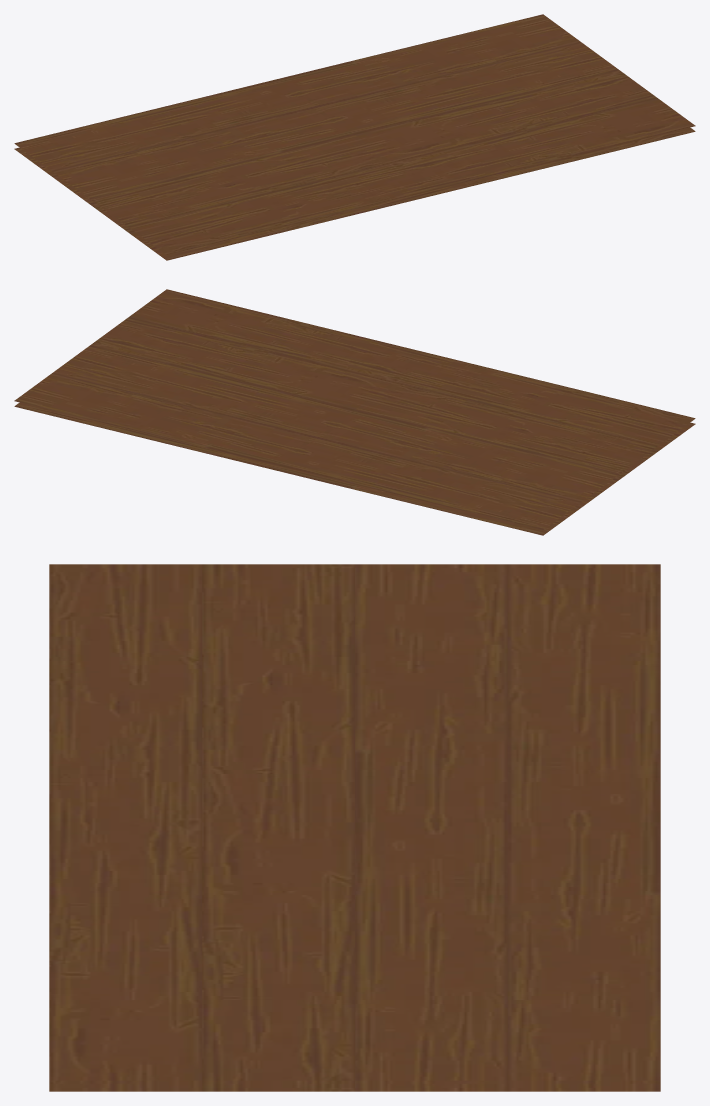
Rendered from floor_wooddark_half3.glb.
3 views of the same model, one above another, from view 1: azimuth 30°, elevation 25°; view 2: azimuth 150°, elevation 25°; view 3: azimuth 270°, elevation 25° (orthographic). The views are drawn at different scales.
Size of the model in its own units: 2 by 0.02 by 1.
1 material, 1 textured.
